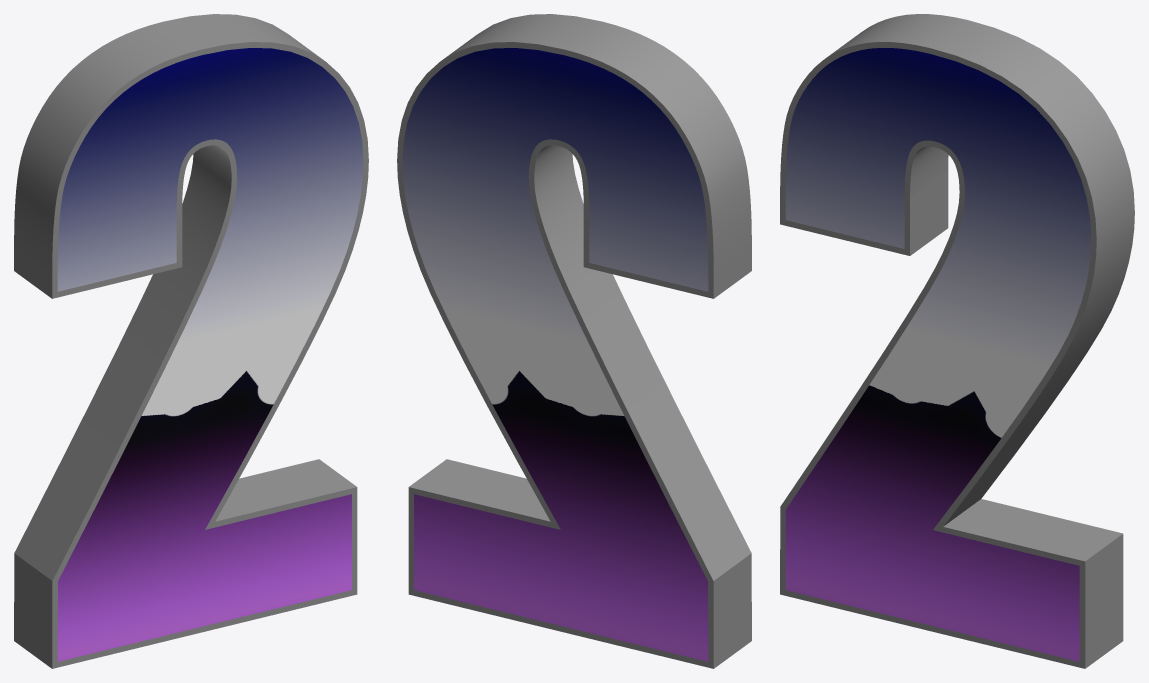
3 renders of one model, left to right at view 1: azimuth 30°, elevation 25°; view 2: azimuth 150°, elevation 25°; view 3: azimuth 330°, elevation 25°, orthographic.
Visible parts, largest first — view 1: 2, 2_outline; view 2: 2, 2_outline; view 3: 2, 2_outline.
Boxes of the visible parts, x1,y1,x2,y2 form: 2: (57, 48, 363, 661); 2_outline: (14, 14, 368, 668); 2: (402, 48, 708, 661); 2_outline: (397, 14, 751, 668); 2: (785, 48, 1091, 661); 2_outline: (780, 14, 1134, 668).
Size of the model in its own units: 57.5 by 101 by 12.
2 materials, 1 textured.
